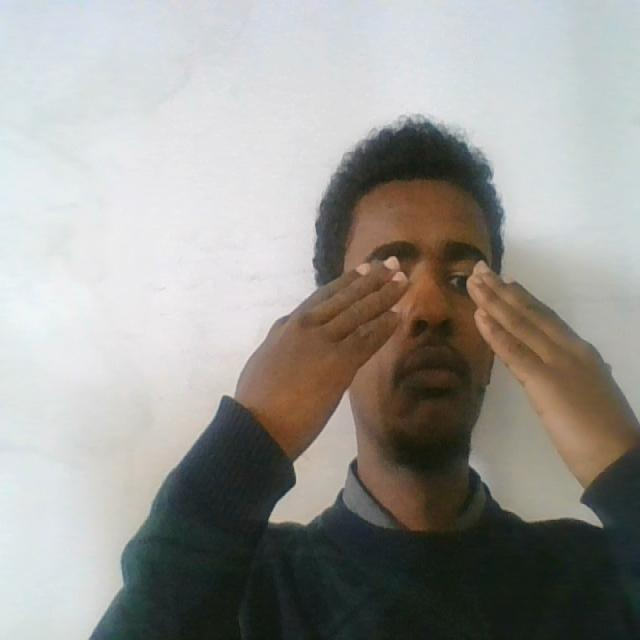thanks: (220, 211, 640, 494)
